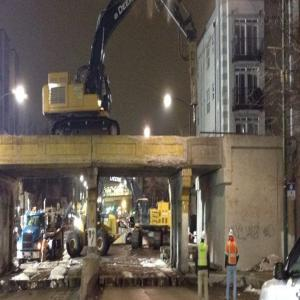white: (229, 230, 235, 241), (202, 230, 207, 243)
